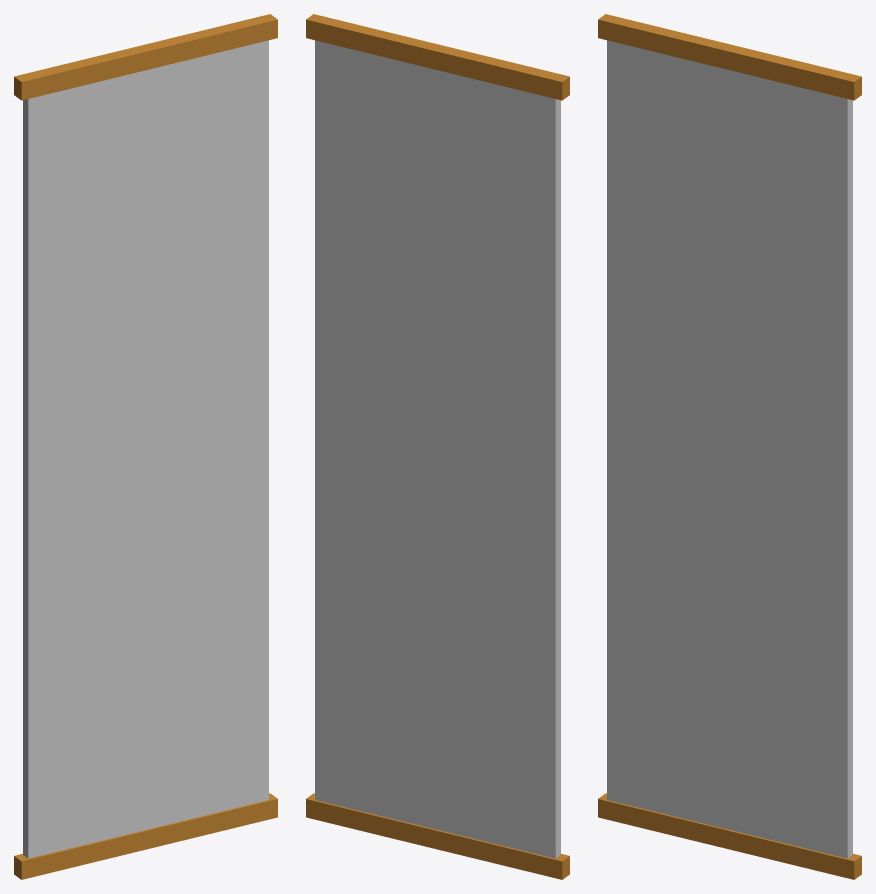
Rendered from Banner.fbx.
The picture shows the model from 3 angles, left to right: view 1: azimuth 30°, elevation 25°; view 2: azimuth 150°, elevation 25°; view 3: azimuth 330°, elevation 25°; orthographic projection.
Visible parts, largest first — view 1: Banner; view 2: Banner; view 3: Banner.
Part boxes in pixels (x1,y1,x2,y2): Banner: [14, 14, 277, 879]; Banner: [306, 14, 569, 879]; Banner: [598, 14, 861, 879].
Size of the model in its own units: 80.98 by 241 by 4.18.
